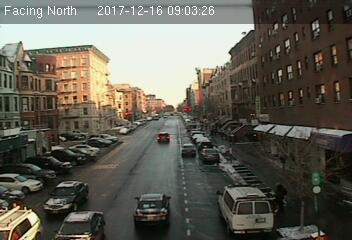car: (42, 179, 89, 215), (53, 210, 105, 240), (134, 192, 171, 225), (200, 147, 219, 162), (180, 143, 197, 157), (156, 132, 171, 143)
police: (215, 182, 274, 236)
